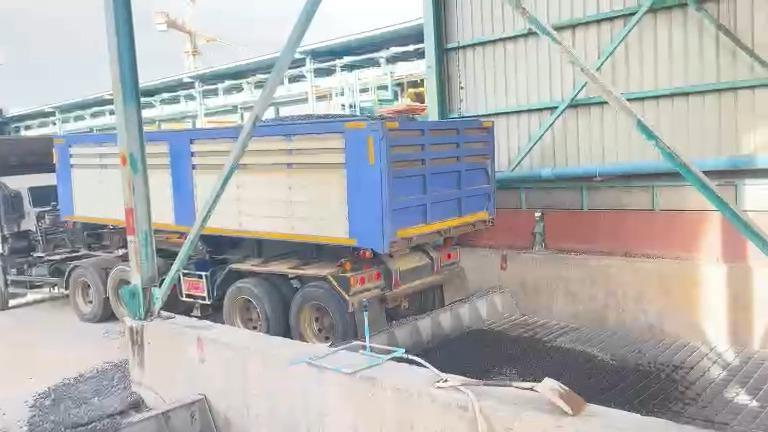gravel: (21, 361, 146, 431)
